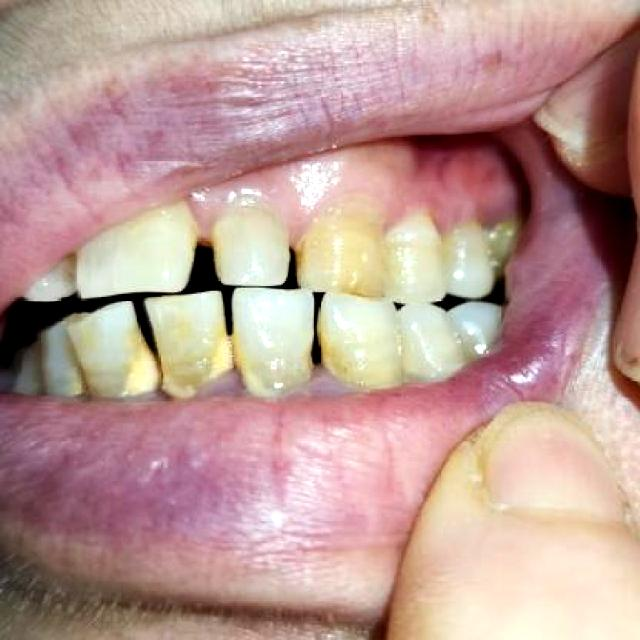Plaque: (282, 363, 356, 397), (174, 373, 260, 397), (117, 385, 168, 400), (76, 390, 99, 399)
